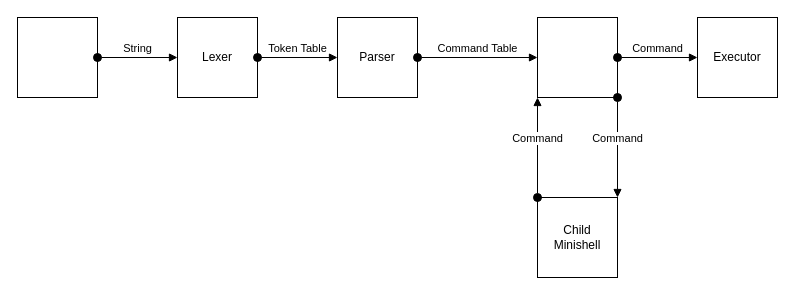
The diagram is 795 pixels wide and 295 high, and some of its shapes have lost their labels. The centre of each missing label's shape, as x and y in pixels:
"Expander" goes at point 577,57.
"Reader" goes at point 57,57.
